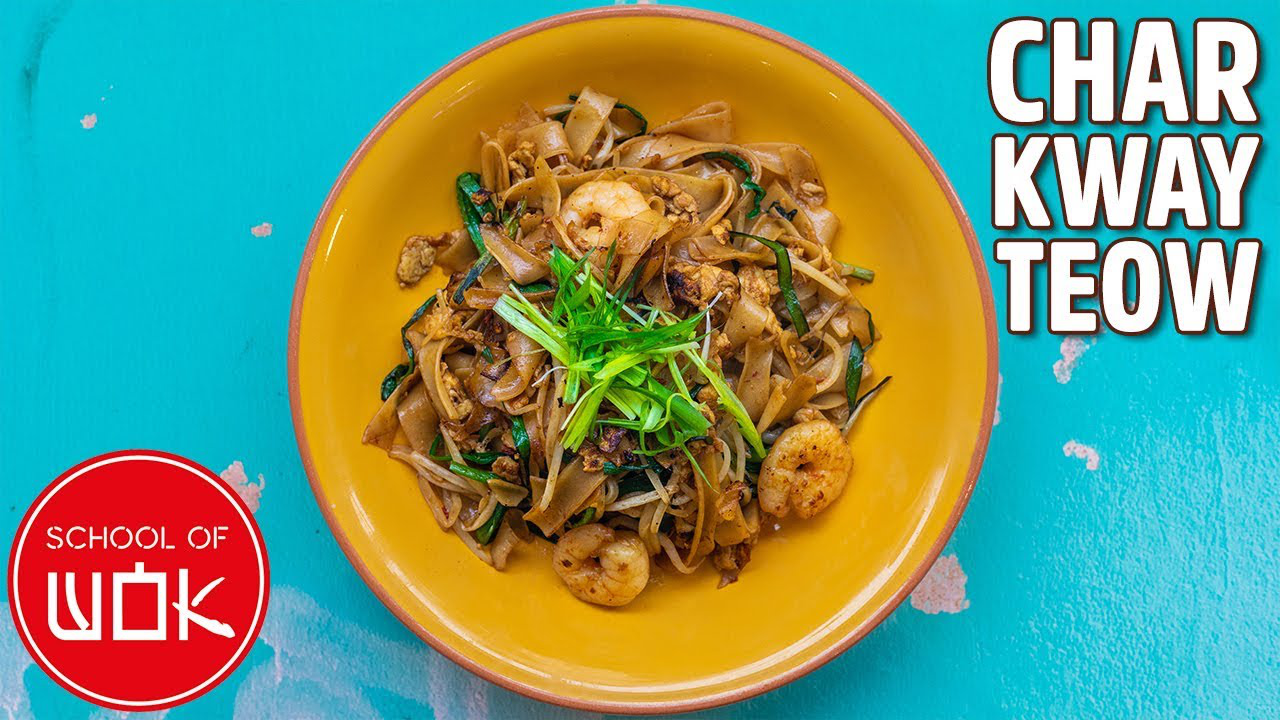Char Kway Teow: (385, 103, 907, 611)
